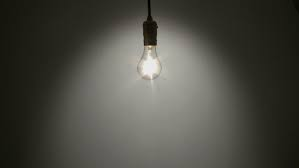bulb: (129, 38, 171, 83)
